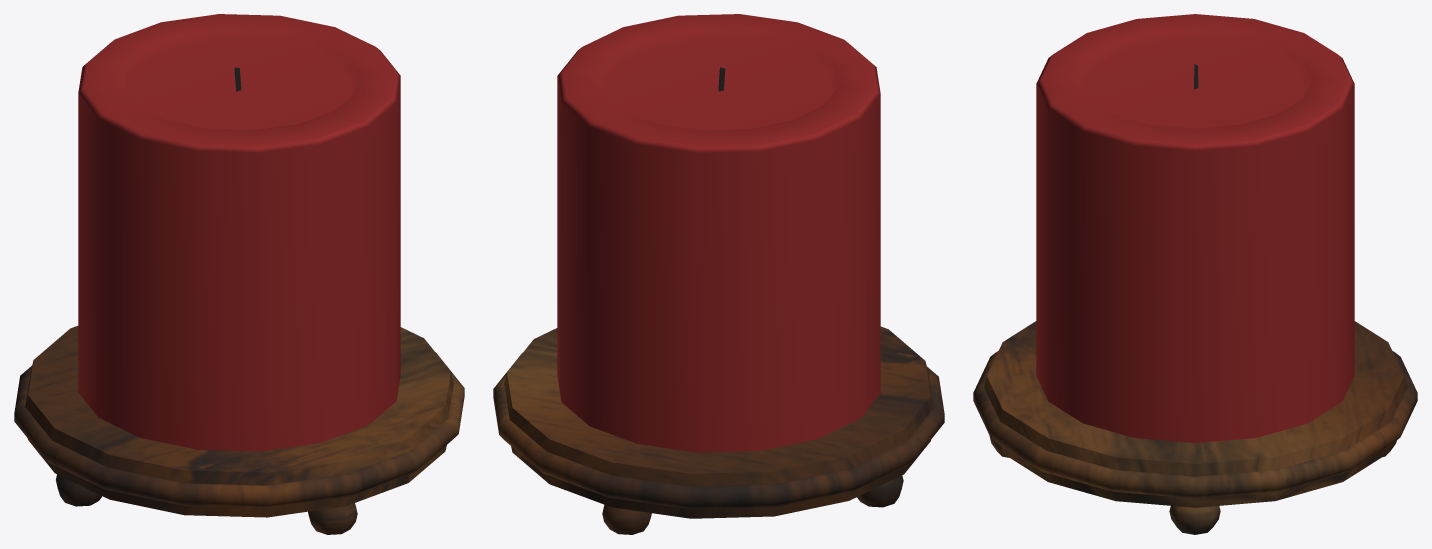
The model's file is candle_04.fbx.
3 renders of one model, left to right at view 1: azimuth 30°, elevation 25°; view 2: azimuth 150°, elevation 25°; view 3: azimuth 270°, elevation 25°, orthographic. The views are drawn at different scales.
Visible parts, largest first — view 1: candle 04; view 2: candle 04; view 3: candle 04.
Boxes of the visible parts, left/top/right/bottom form: candle 04: left=14, top=14, right=464, bottom=534; candle 04: left=493, top=14, right=944, bottom=534; candle 04: left=973, top=14, right=1417, bottom=534.
Size of the model in its own units: 27.45 by 26.19 by 27.45.
